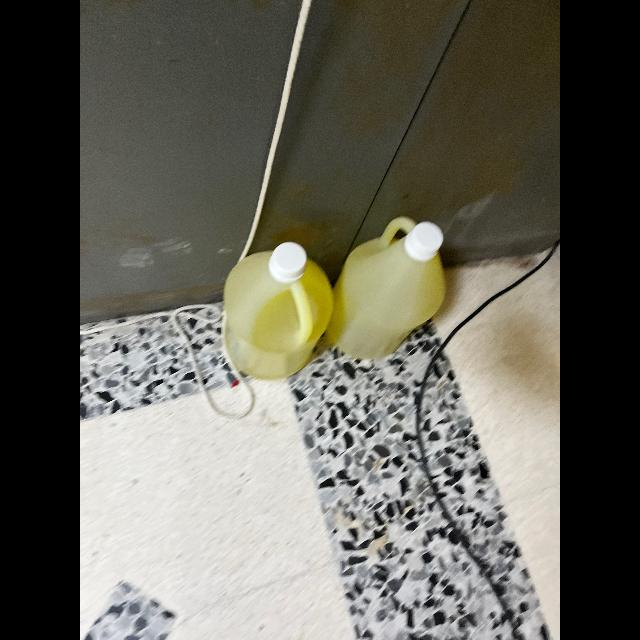chemical_plastic_gallon: (325, 202, 461, 380), (200, 230, 338, 392)
